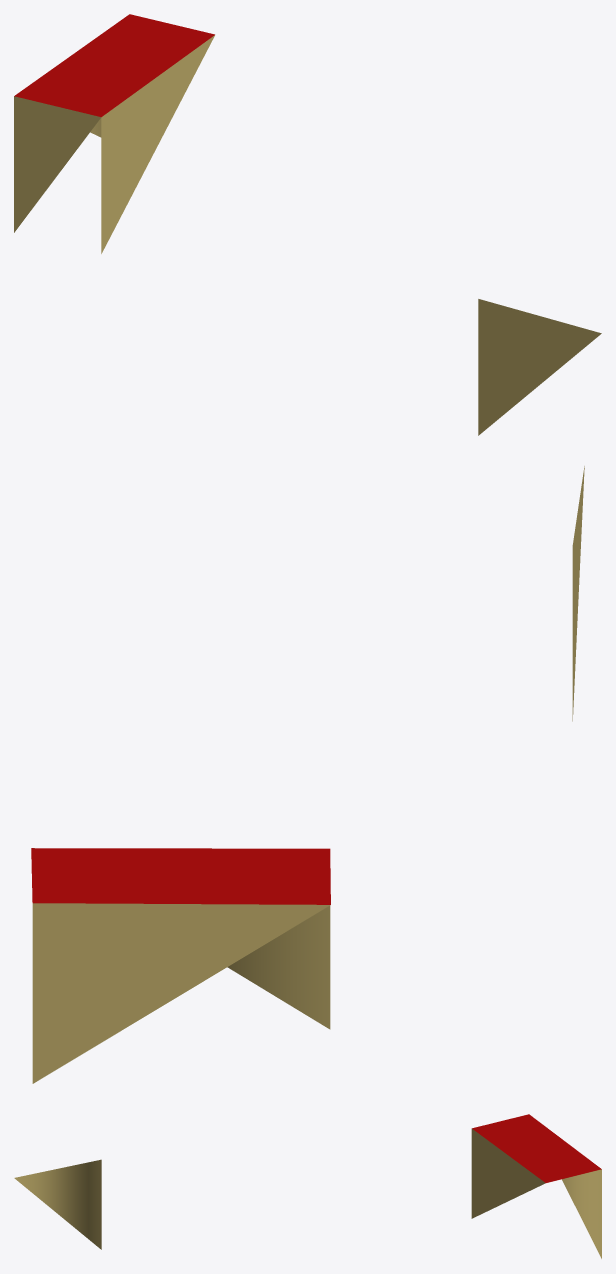
The picture shows the model from 3 angles, top to bottom: view 1: azimuth 30°, elevation 25°; view 2: azimuth 150°, elevation 25°; view 3: azimuth 270°, elevation 25°; orthographic projection. The views are drawn at different scales.
Bounding box in the file's own units: 61.34 × 37.5 × 221.
